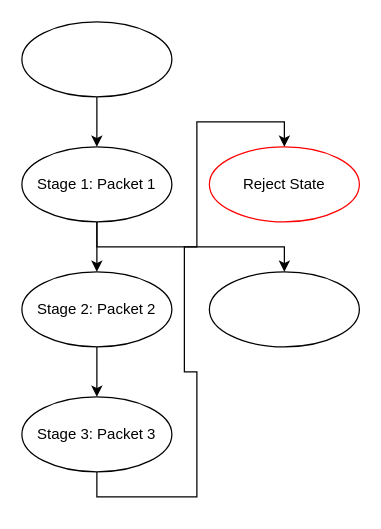
The diagram is 381 pixels wide and 529 high, and some of its shapes have lost their labels. The shapes that lost their labels are listed below. From the top down, each one's centre as x and y in pixels, then its label:
At point (96, 59): "Start".
At point (283, 309): "Malware Detected".
